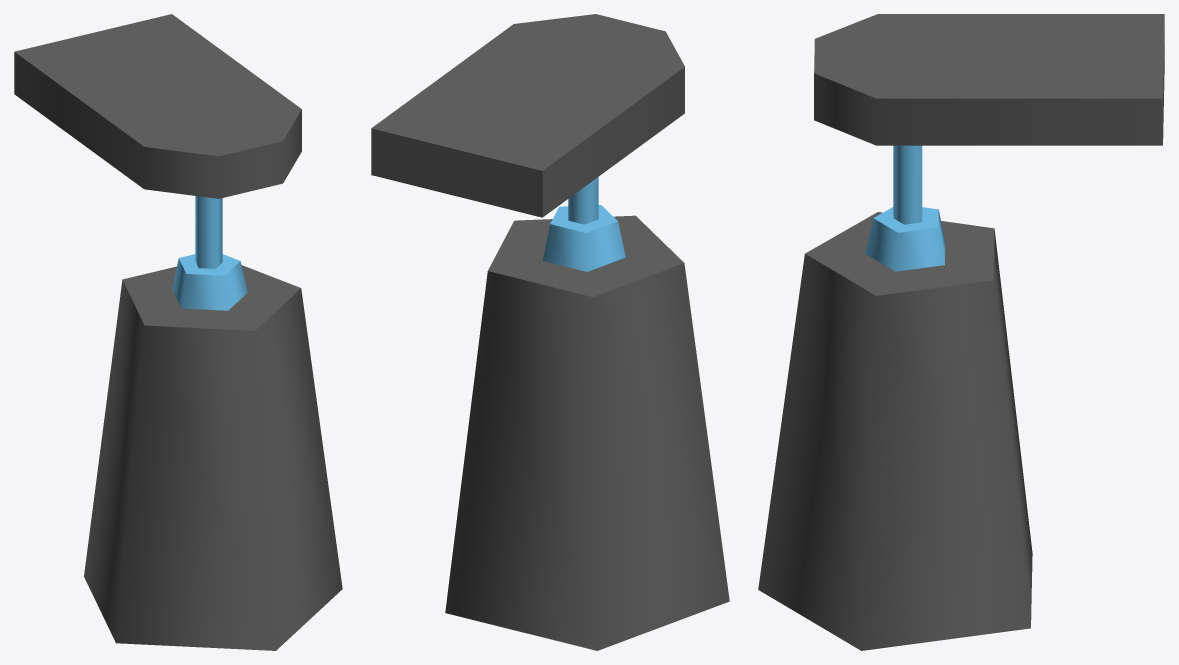
Rendered from lamp_029.glb.
3 renders of one model, left to right at view 1: azimuth 30°, elevation 25°; view 2: azimuth 150°, elevation 25°; view 3: azimuth 270°, elevation 25°, orthographic. The views are drawn at different scales.
Visible parts, largest first — view 1: lamp_029; view 2: lamp_029; view 3: lamp_029.
Boxes of the visible parts, x1,y1,x2,y2 form: lamp_029: [14, 14, 342, 650]; lamp_029: [371, 14, 729, 650]; lamp_029: [758, 14, 1164, 650].
Size of the model in its own units: 0.1342 by 0.2749 by 0.1897.
Materials: 1 (1 with a texture image).
